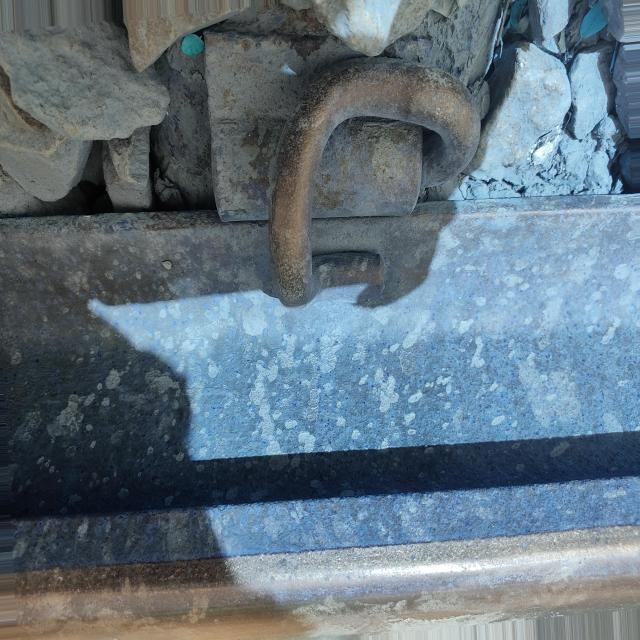Good Fasteners: (204, 23, 481, 306)
